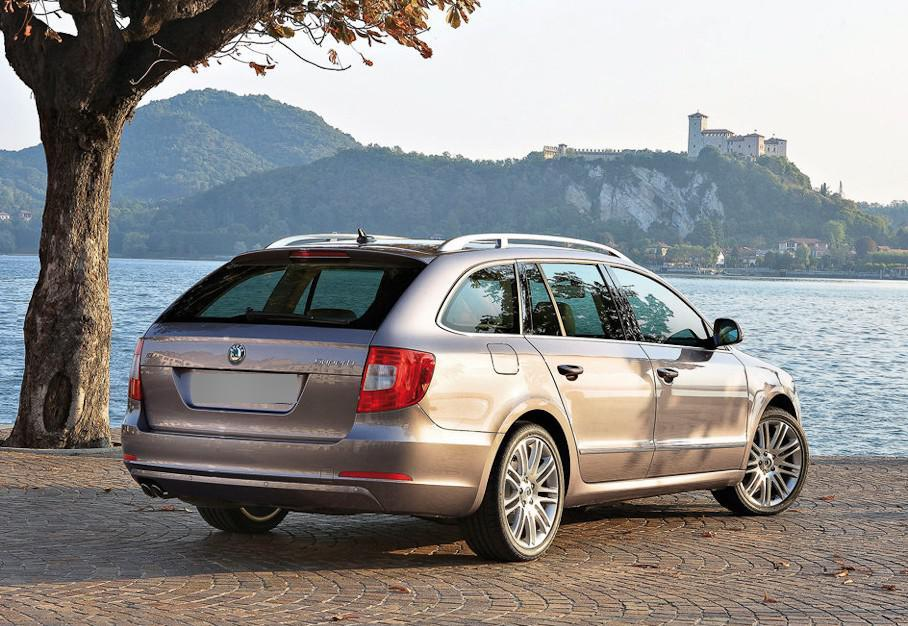Wagon: (121, 228, 809, 563)
